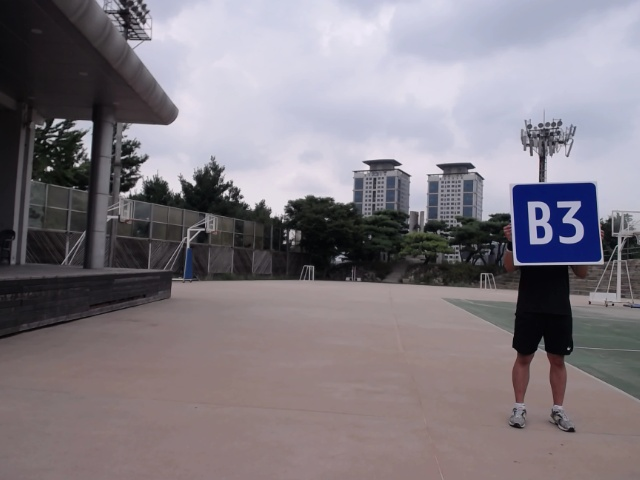delivery_b3: (509, 182, 606, 268)
